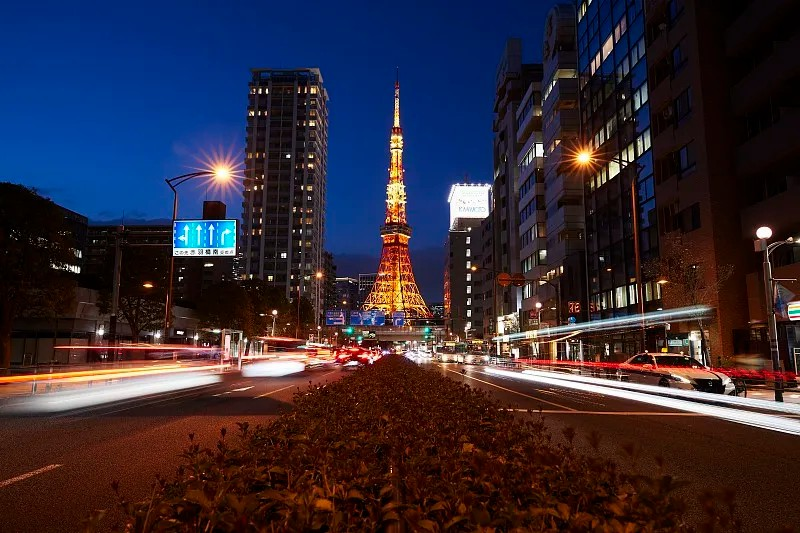Tokyo: (355, 64, 434, 323)
